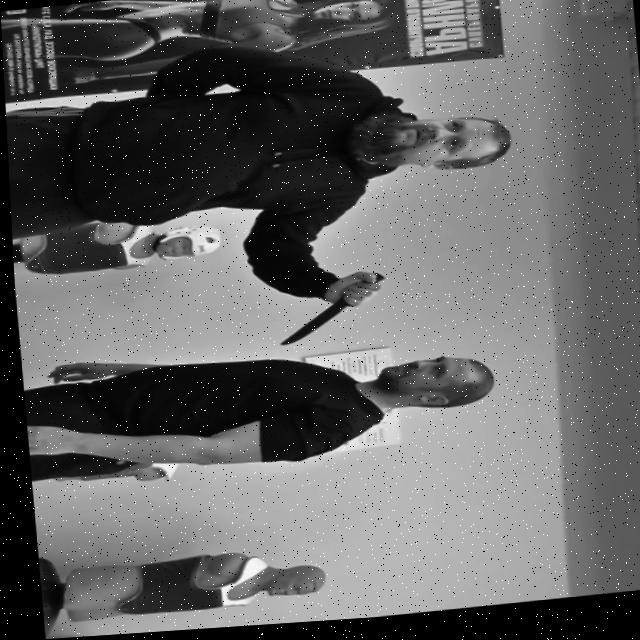knife: (271, 305, 344, 349)
